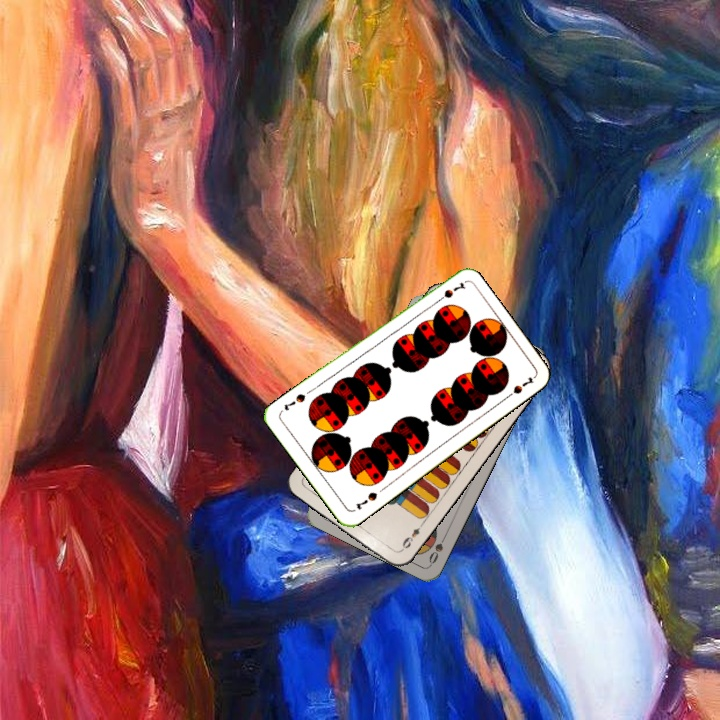E9: (396, 519, 426, 554)
S7: (431, 278, 467, 307), (352, 488, 380, 512)
SO: (425, 529, 450, 567)
